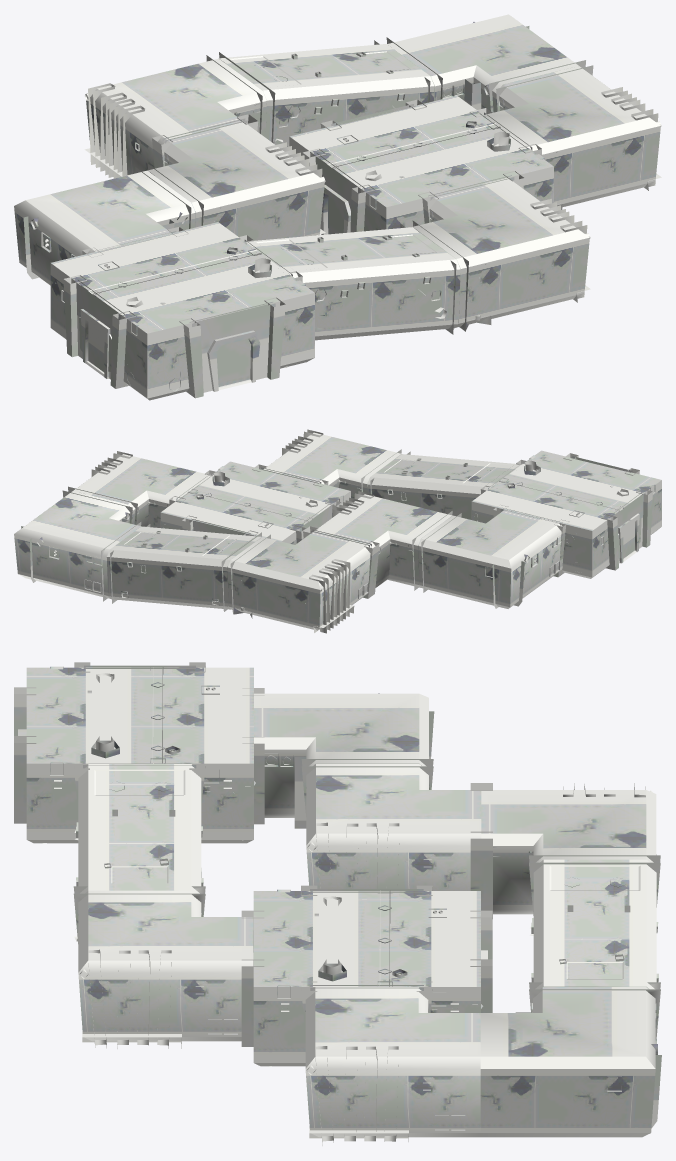
File: Combined_Mesh_root_scene__4_e0ea2853__zombies2_diffuse_11_814463c1_c1f257.obj
3 views of the same model, one above another, from view 1: azimuth 30°, elevation 25°; view 2: azimuth 150°, elevation 25°; view 3: azimuth 270°, elevation 25° (orthographic). The views are drawn at different scales.
Size of the model in its own units: 76.84 by 12.64 by 57.04.
Materials: 171 (171 with a texture image).
